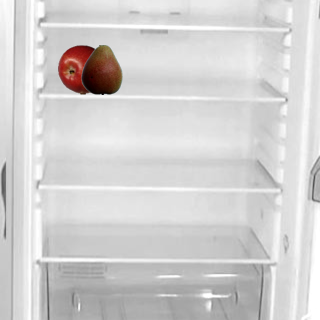Apple Braeburn: (57, 44, 107, 94)
Pear Forelle: (76, 44, 126, 94)
